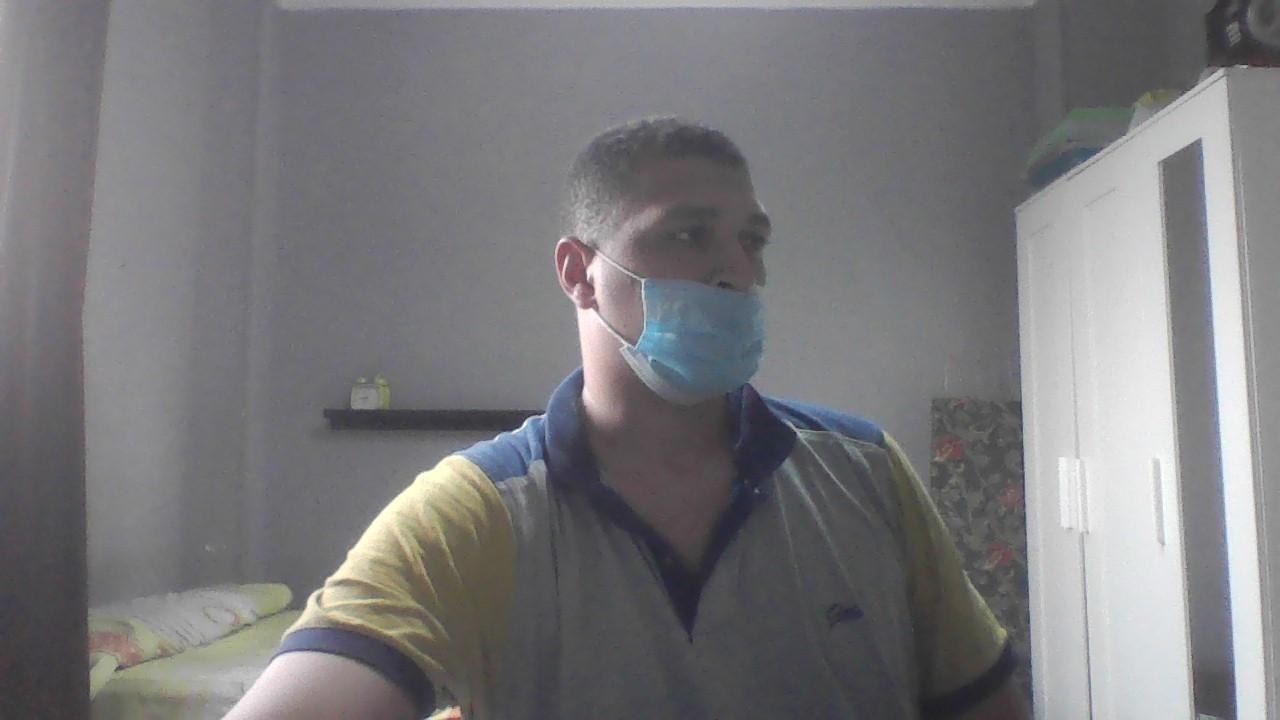mask_weared_incorrect: (594, 130, 761, 423)
